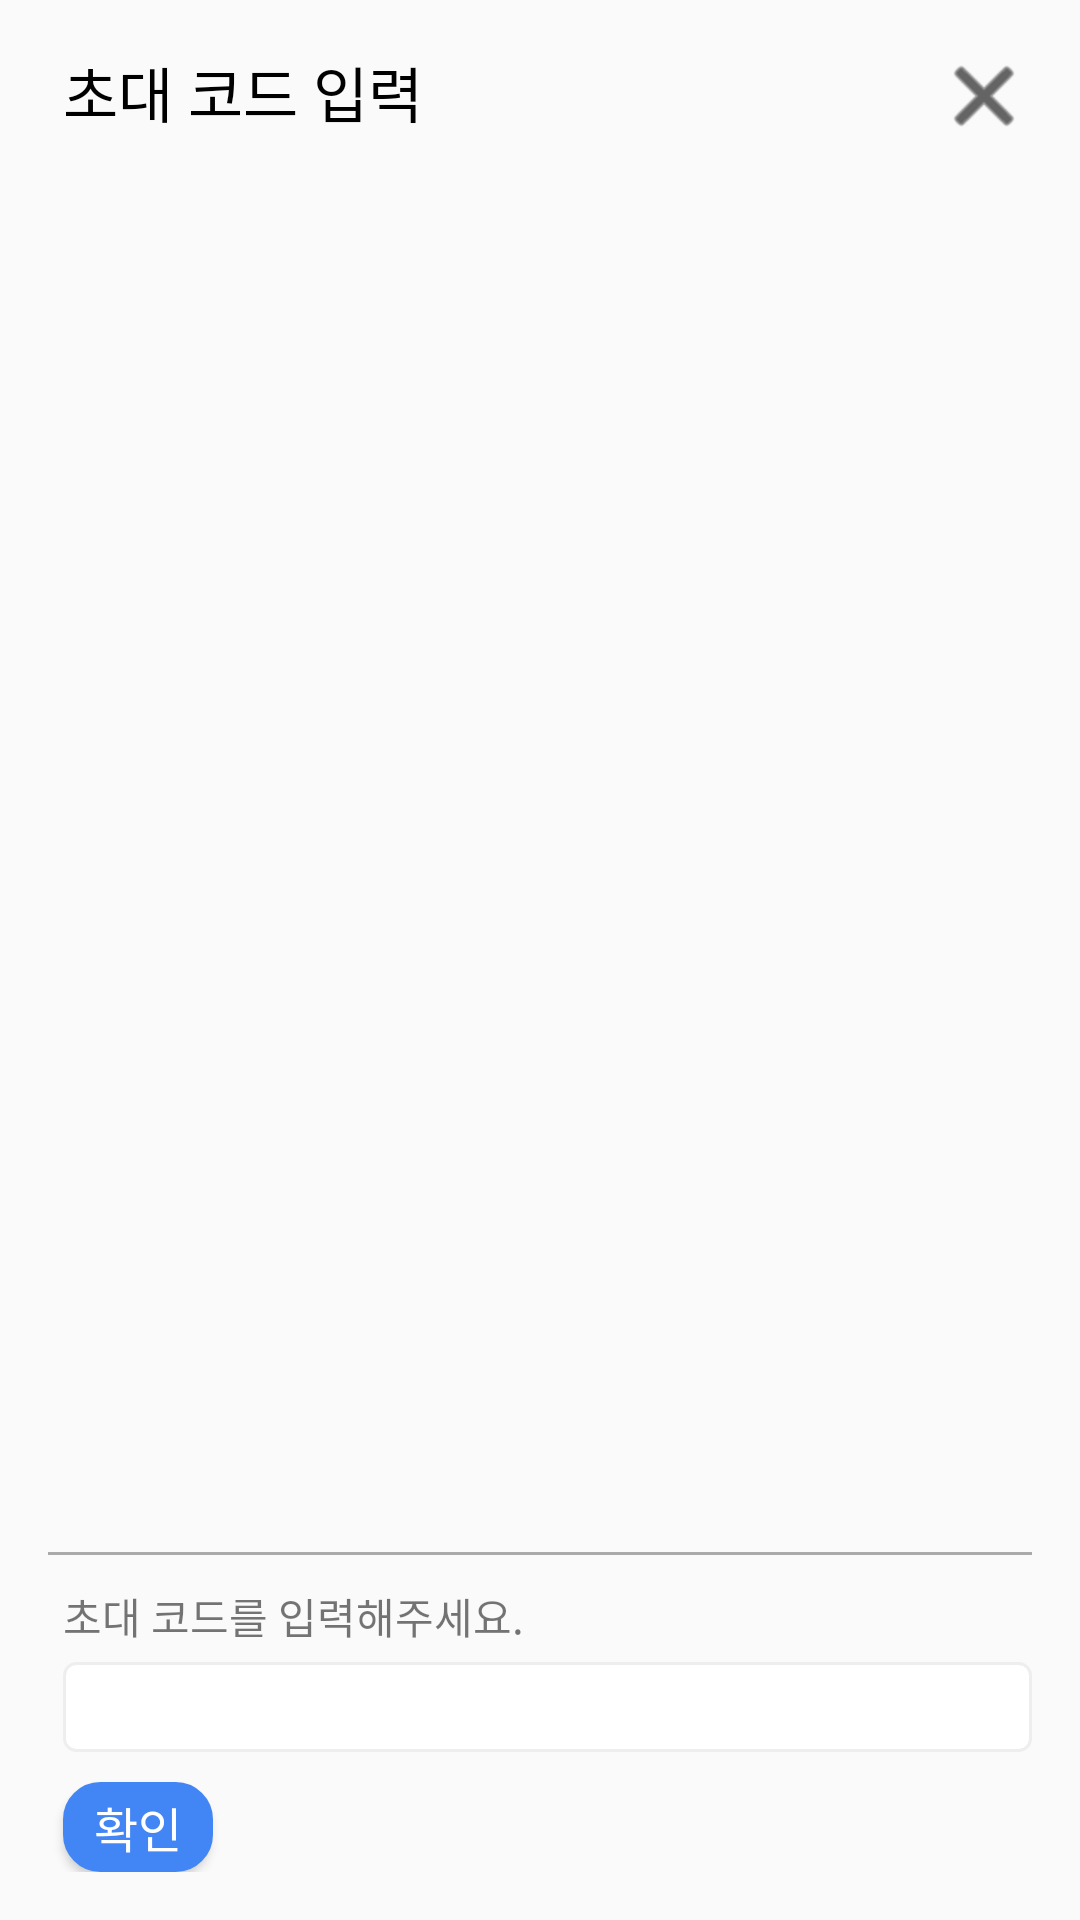

Icon bounding boxes for this 1080 × 1920 phone screenshot, format (x1, y1, x2, y2):
close clear cancel: (954, 66, 1014, 126)
